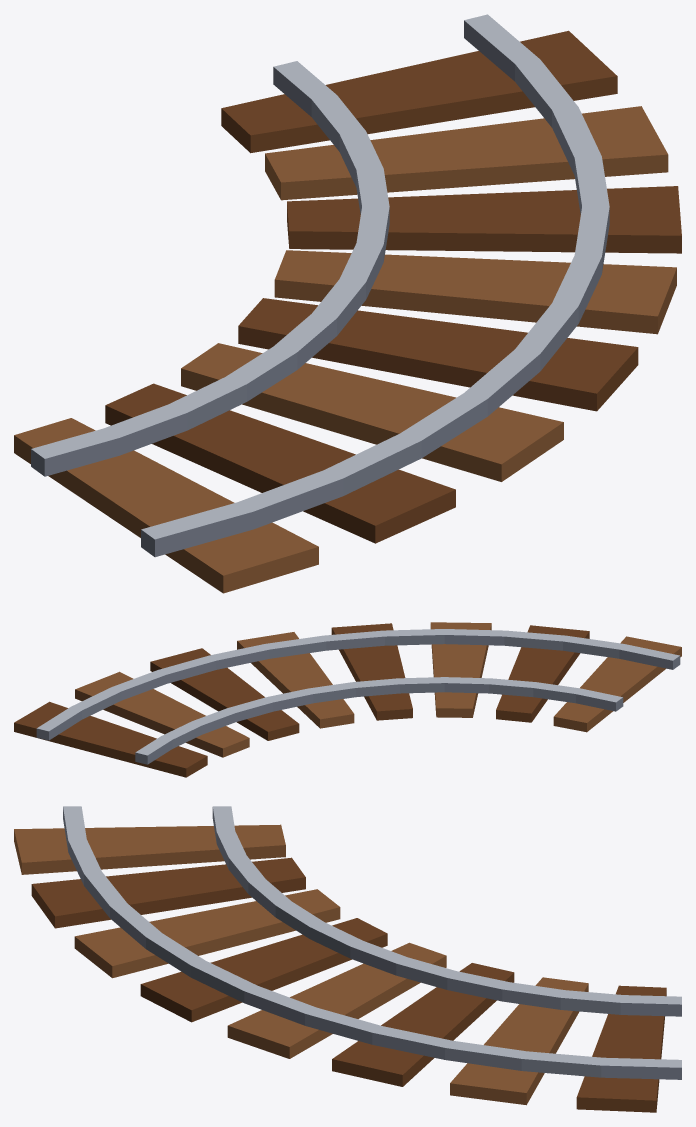
The model's file is railroad-corner-small.glb.
The picture shows the model from 3 angles, top to bottom: view 1: azimuth 30°, elevation 25°; view 2: azimuth 150°, elevation 25°; view 3: azimuth 270°, elevation 25°; orthographic projection. The views are drawn at different scales.
Parts seen in each view (by area): view 1: railroad-corner-small; view 2: railroad-corner-small; view 3: railroad-corner-small.
Part boxes in pixels (bbox=[...]): railroad-corner-small: bbox=[14, 14, 681, 593]; railroad-corner-small: bbox=[14, 622, 681, 777]; railroad-corner-small: bbox=[14, 806, 681, 1112].
Size of the model in its own units: 2.5 by 0.1 by 2.5.
1 material, 1 textured.
